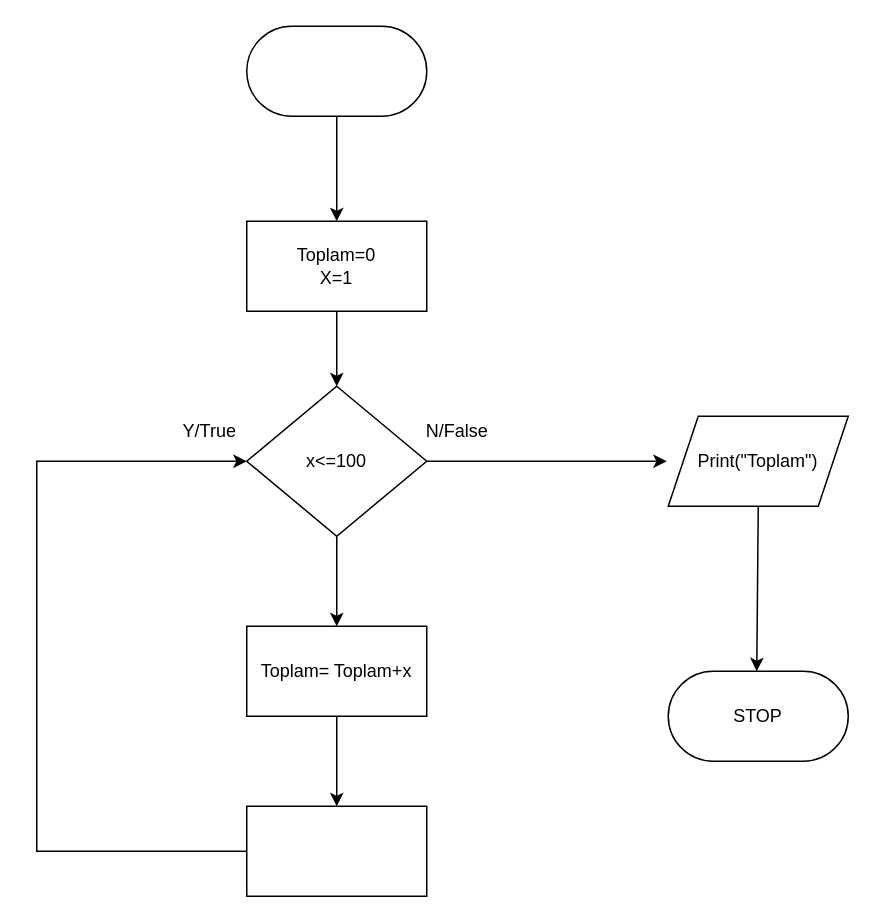
This 875x923 diagram has some shape labels left out. The shapes that lost their labels are listed below. From the top down, each one's centre as x and y in pixels, then its label:
[336,70]: BASLA
[336,850]: X=X+1
